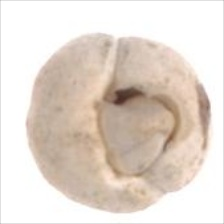L3: (90, 82, 186, 181)
L4: (26, 33, 211, 214)
